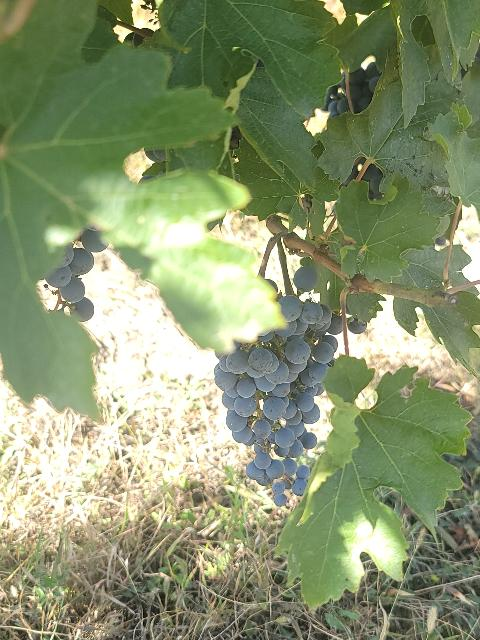grapes: (215, 295, 341, 506)
